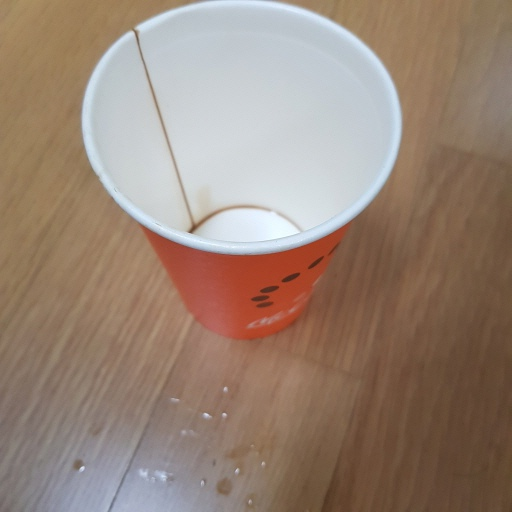Paper_1: (80, 1, 401, 336)
